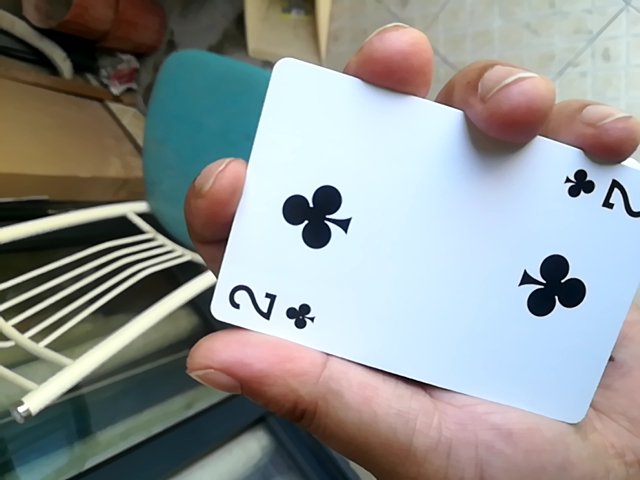mh 2: (181, 72, 634, 418)
